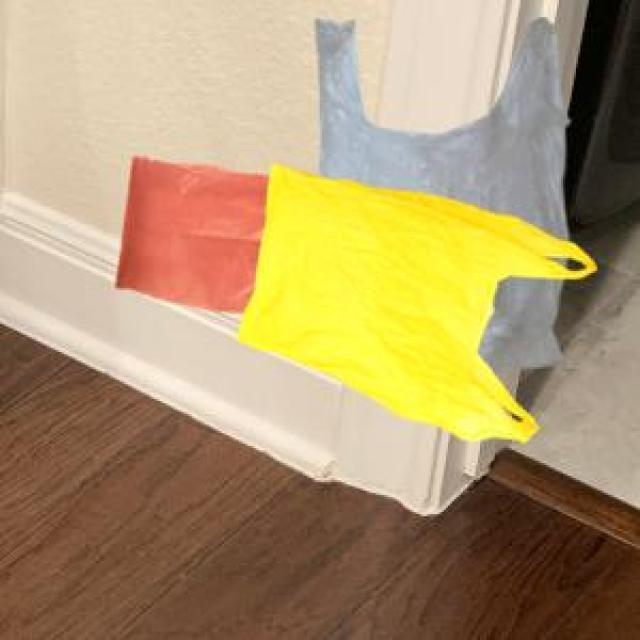waste: (118, 19, 596, 442)
